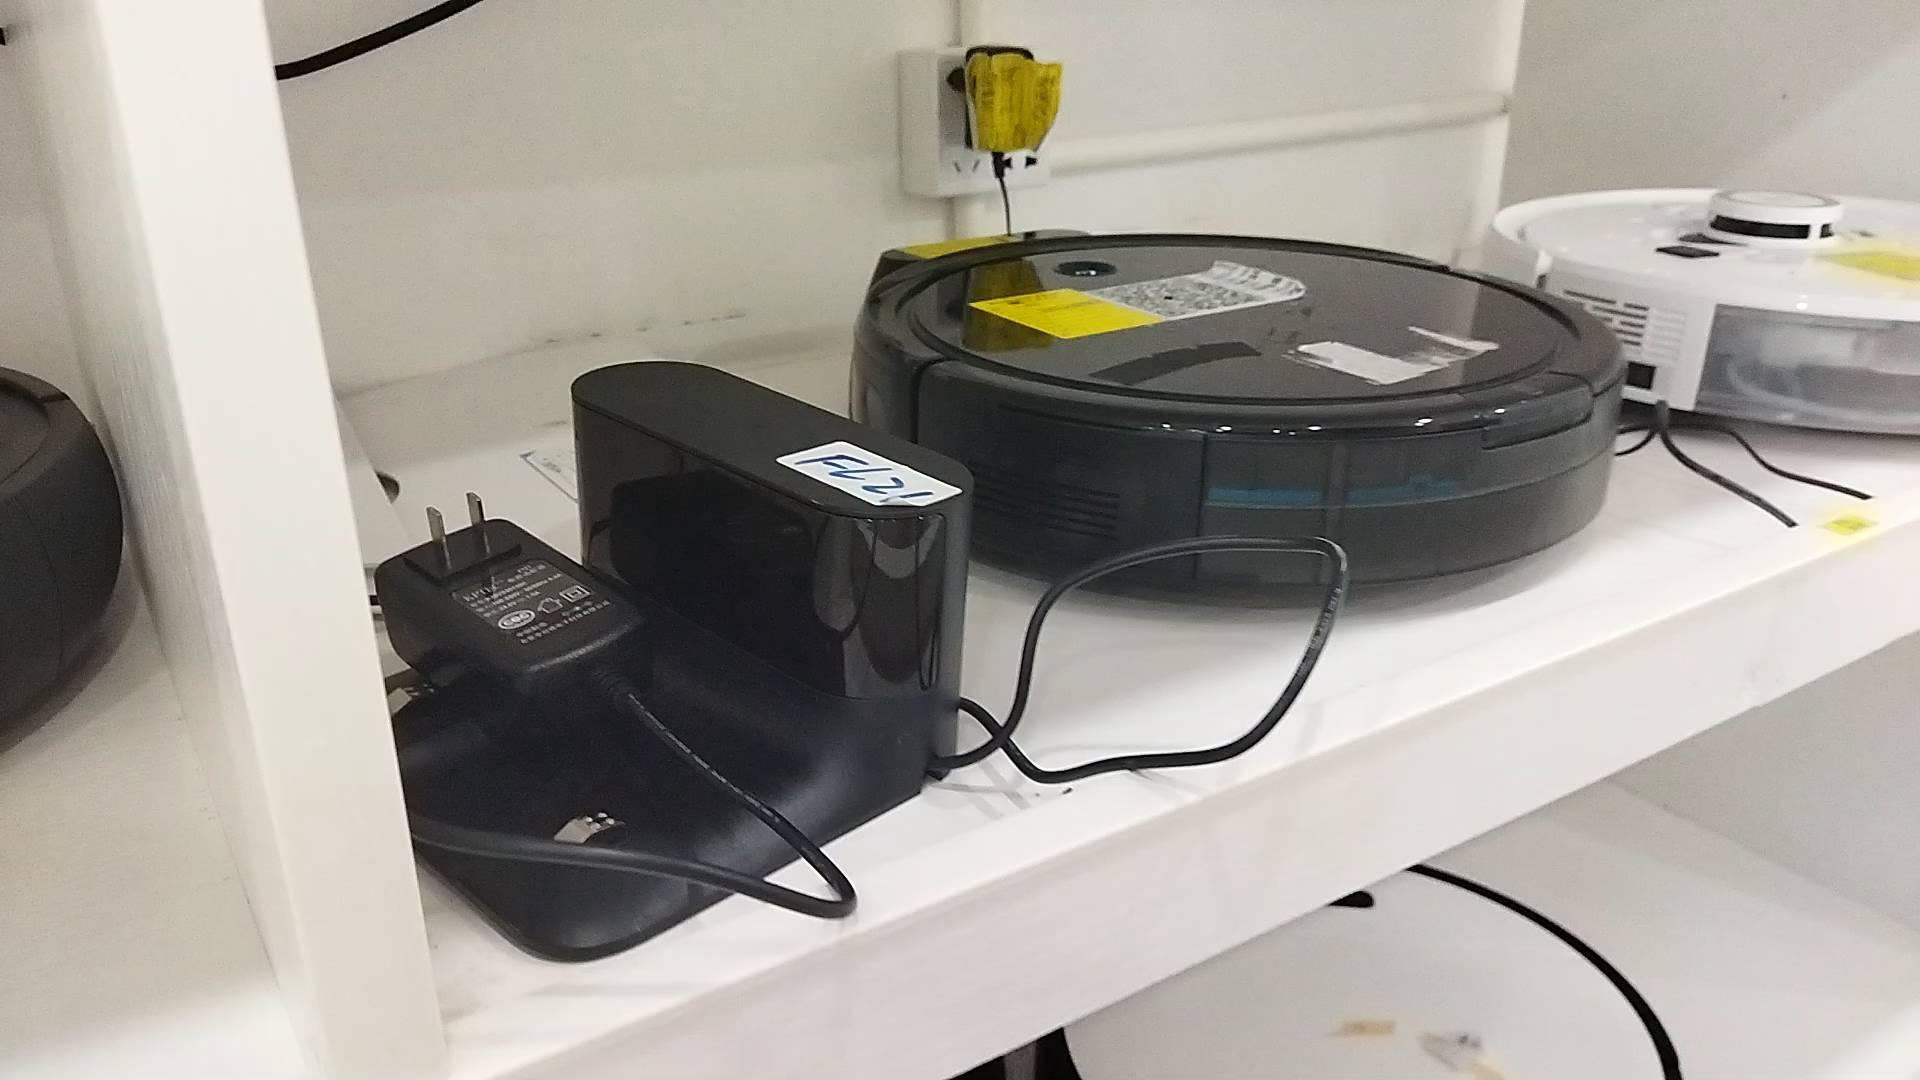recharge seat: (390, 360, 975, 960)
